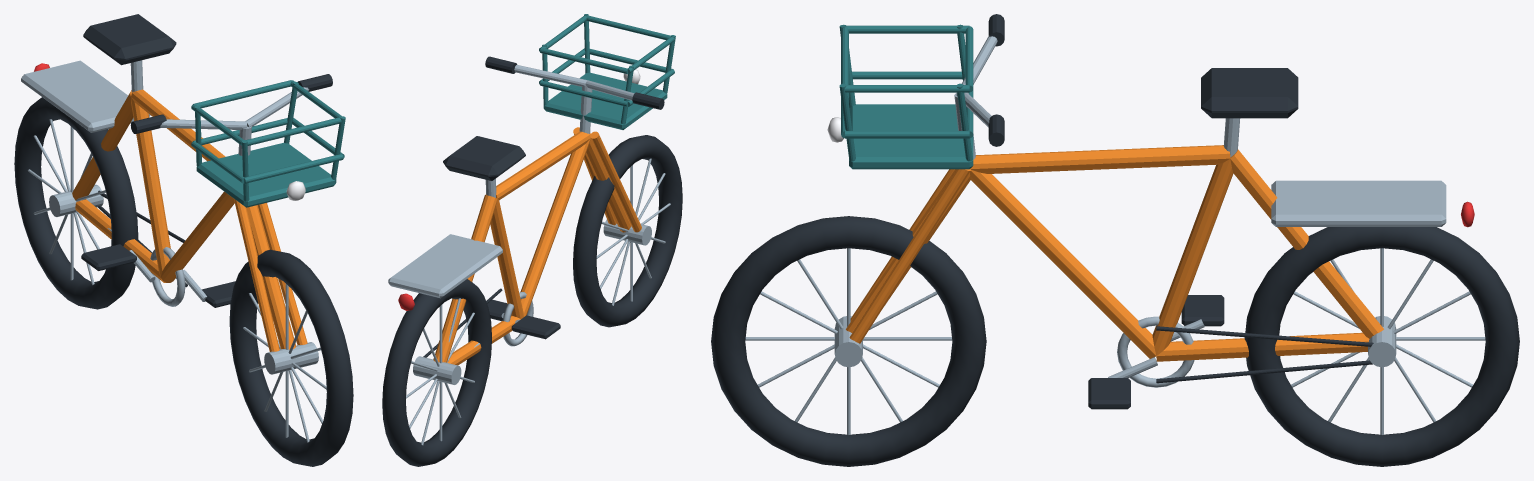
The model's file is taiwan-bicycle.glb.
3 views of the same model, side by side, from view 1: azimuth 30°, elevation 25°; view 2: azimuth 150°, elevation 25°; view 3: azimuth 270°, elevation 25° (orthographic). The views are drawn at different scales.
Parts seen in each view (by area): view 1: Cycle tyre.001, Cycle tyre, Rear rack, Front basket floor, Cycle saddle, Step-through cycle frame tube.002, Step-through cycle frame tube.005, Step-through cycle frame tube.003, Fork blade, Step-through cycle frame tube.001, Step-through cycle frame tube, Step-through cycle frame tube.004 (+18 smaller); view 2: Cycle tyre.001, Cycle tyre, Rear rack, Front basket floor, Step-through cycle frame tube.003, Cycle saddle, Step-through cycle frame tube.004, Step-through cycle frame tube.001, Step-through cycle frame tube.002, Fork blade, Step-through cycle frame tube.005, Axle hub (+14 smaller); view 3: Cycle tyre.001, Cycle tyre, Rear rack, Front basket floor, Step-through cycle frame tube.004, Step-through cycle frame tube.003, Cycle saddle, Step-through cycle frame tube.002, Step-through cycle frame tube.001, Step-through cycle frame tube, Fork blade.001, Pedal.001 (+11 smaller).
Part boxes in pixels (x1,y1,x2,y2): Cycle tyre.001: (229,249,353,466); Cycle tyre: (14,97,138,309); Rear rack: (21,60,150,132); Front basket floor: (196,142,336,207); Cycle saddle: (83,14,176,65); Step-through cycle frame tube.002: (131,97,170,276); Step-through cycle frame tube.005: (246,205,296,349); Step-through cycle frame tube.003: (160,191,234,282); Fork blade: (233,198,279,351); Step-through cycle frame tube.001: (72,90,133,200); Step-through cycle frame tube: (75,199,165,282); Step-through cycle frame tube.004: (131,89,225,161); Cycle tyre.001: (573,135,682,327); Cycle tyre: (382,279,491,466); Rear rack: (388,234,502,298); Front basket floor: (543,72,667,129); Step-through cycle frame tube.003: (520,138,590,316); Cycle saddle: (443,136,525,180); Step-through cycle frame tube.004: (485,131,590,200); Step-through cycle frame tube.001: (433,195,497,362); Step-through cycle frame tube.002: (490,199,523,318); Fork blade: (590,131,641,232); Step-through cycle frame tube.005: (585,133,631,232); Axle hub: (413,356,461,384); Cycle tyre.001: (711,216,986,466); Cycle tyre: (1244,227,1519,466); Rear rack: (1271,180,1446,226); Front basket floor: (849,104,973,169); Step-through cycle frame tube.004: (970,145,1230,173); Step-through cycle frame tube.003: (970,170,1156,358); Cycle saddle: (1201,68,1298,118); Step-through cycle frame tube.002: (1152,159,1233,355); Step-through cycle frame tube.001: (1230,149,1383,338); Step-through cycle frame tube: (1156,332,1369,361); Fork blade.001: (849,169,970,343); Pedal.001: (1088,378,1130,409).
Size of the model in its own units: 0.72 by 1.17 by 2.08.
